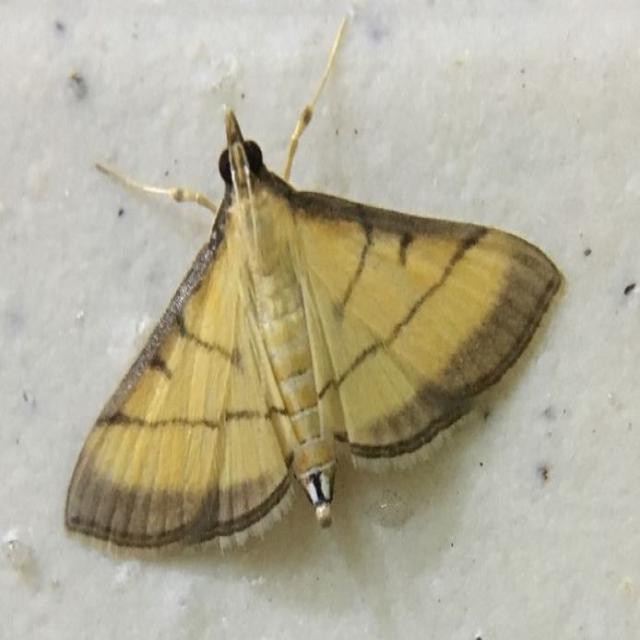rice leaf roller -penggulung daun padi-: (62, 16, 565, 553)
